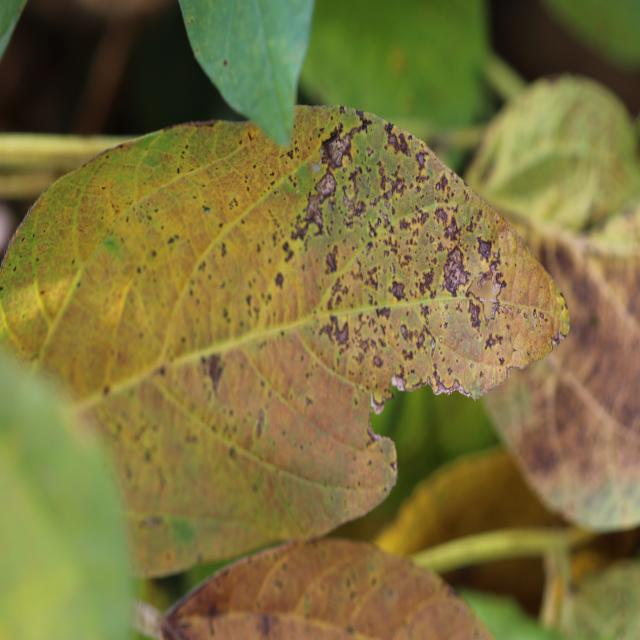Bacterial_Blight: (601, 341, 640, 429), (558, 257, 595, 321), (440, 247, 470, 297), (528, 430, 561, 474), (322, 129, 353, 169), (321, 315, 350, 348), (201, 357, 229, 390), (341, 184, 366, 220), (169, 516, 196, 546), (430, 368, 458, 396), (100, 234, 125, 260), (387, 46, 407, 75), (291, 217, 312, 244), (416, 269, 436, 297), (484, 299, 503, 323), (369, 392, 387, 416), (138, 515, 164, 530), (484, 332, 503, 352), (433, 207, 450, 228), (435, 173, 451, 195), (259, 614, 274, 637), (390, 373, 407, 393), (492, 270, 505, 296), (390, 280, 406, 301), (364, 266, 380, 287), (255, 408, 266, 437), (325, 248, 338, 272), (383, 584, 399, 603), (367, 425, 382, 444), (358, 113, 373, 131), (415, 150, 428, 170), (281, 240, 293, 260), (388, 451, 397, 475), (551, 330, 563, 347), (416, 330, 426, 350), (303, 594, 313, 613), (399, 217, 411, 232), (418, 210, 429, 226), (420, 304, 431, 320), (274, 271, 284, 288), (467, 386, 479, 400), (372, 354, 383, 368), (400, 324, 409, 341), (208, 617, 216, 636), (229, 197, 239, 210), (388, 132, 397, 146), (168, 234, 179, 245), (246, 129, 256, 141), (429, 338, 436, 355), (311, 162, 321, 173), (220, 242, 227, 257), (286, 149, 294, 160), (102, 385, 110, 396), (366, 147, 374, 157), (492, 251, 500, 260), (202, 205, 211, 212), (187, 17, 194, 26), (532, 309, 538, 319), (505, 368, 510, 378), (447, 367, 453, 375), (223, 59, 228, 67), (479, 370, 484, 377), (523, 312, 528, 319), (195, 47, 200, 54), (469, 362, 474, 369), (438, 337, 443, 343), (532, 322, 537, 328), (13, 265, 17, 272), (0, 285, 4, 292), (526, 350, 530, 357), (539, 296, 543, 303), (101, 185, 106, 190), (176, 168, 180, 174)
Soybean: (0, 106, 569, 576)
